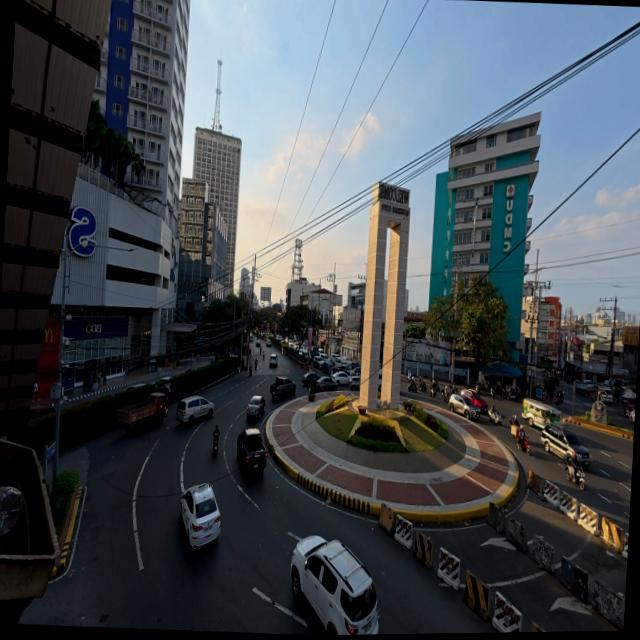Jeepneys: (521, 399, 560, 429)
car: (290, 536, 378, 634), (180, 484, 219, 548), (541, 424, 592, 467), (175, 396, 213, 425), (448, 394, 479, 419), (459, 389, 487, 414), (246, 396, 264, 418), (28, 404, 54, 419), (315, 376, 337, 391), (155, 376, 171, 395), (301, 372, 320, 386), (331, 372, 349, 385), (340, 363, 356, 376), (348, 376, 360, 391), (320, 361, 333, 374), (124, 383, 145, 391), (311, 356, 323, 368), (268, 354, 277, 367), (330, 353, 339, 364), (319, 352, 330, 361), (628, 411, 634, 423), (350, 362, 360, 369), (296, 347, 303, 356), (288, 339, 294, 348), (266, 339, 272, 348), (256, 339, 262, 348), (293, 343, 298, 352), (276, 336, 282, 341), (249, 335, 253, 342)
motorcycle: (565, 463, 584, 490), (516, 434, 530, 455), (489, 384, 505, 397), (488, 409, 501, 425), (212, 434, 219, 455), (475, 381, 486, 394), (441, 387, 450, 402), (418, 378, 426, 394), (506, 388, 516, 400), (407, 380, 416, 393), (509, 414, 518, 427), (554, 393, 563, 406), (430, 380, 439, 392), (449, 384, 458, 393), (428, 387, 435, 398), (254, 359, 257, 370), (248, 366, 251, 376)
trucks: (117, 393, 167, 434), (236, 428, 267, 472), (269, 377, 295, 398)
vans: (597, 388, 612, 403), (333, 358, 348, 368)
